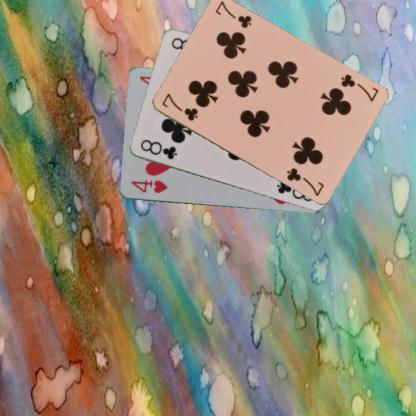4h: (128, 177, 169, 195)
7c: (158, 90, 200, 122), (338, 71, 380, 103)
8c: (138, 137, 178, 161)
